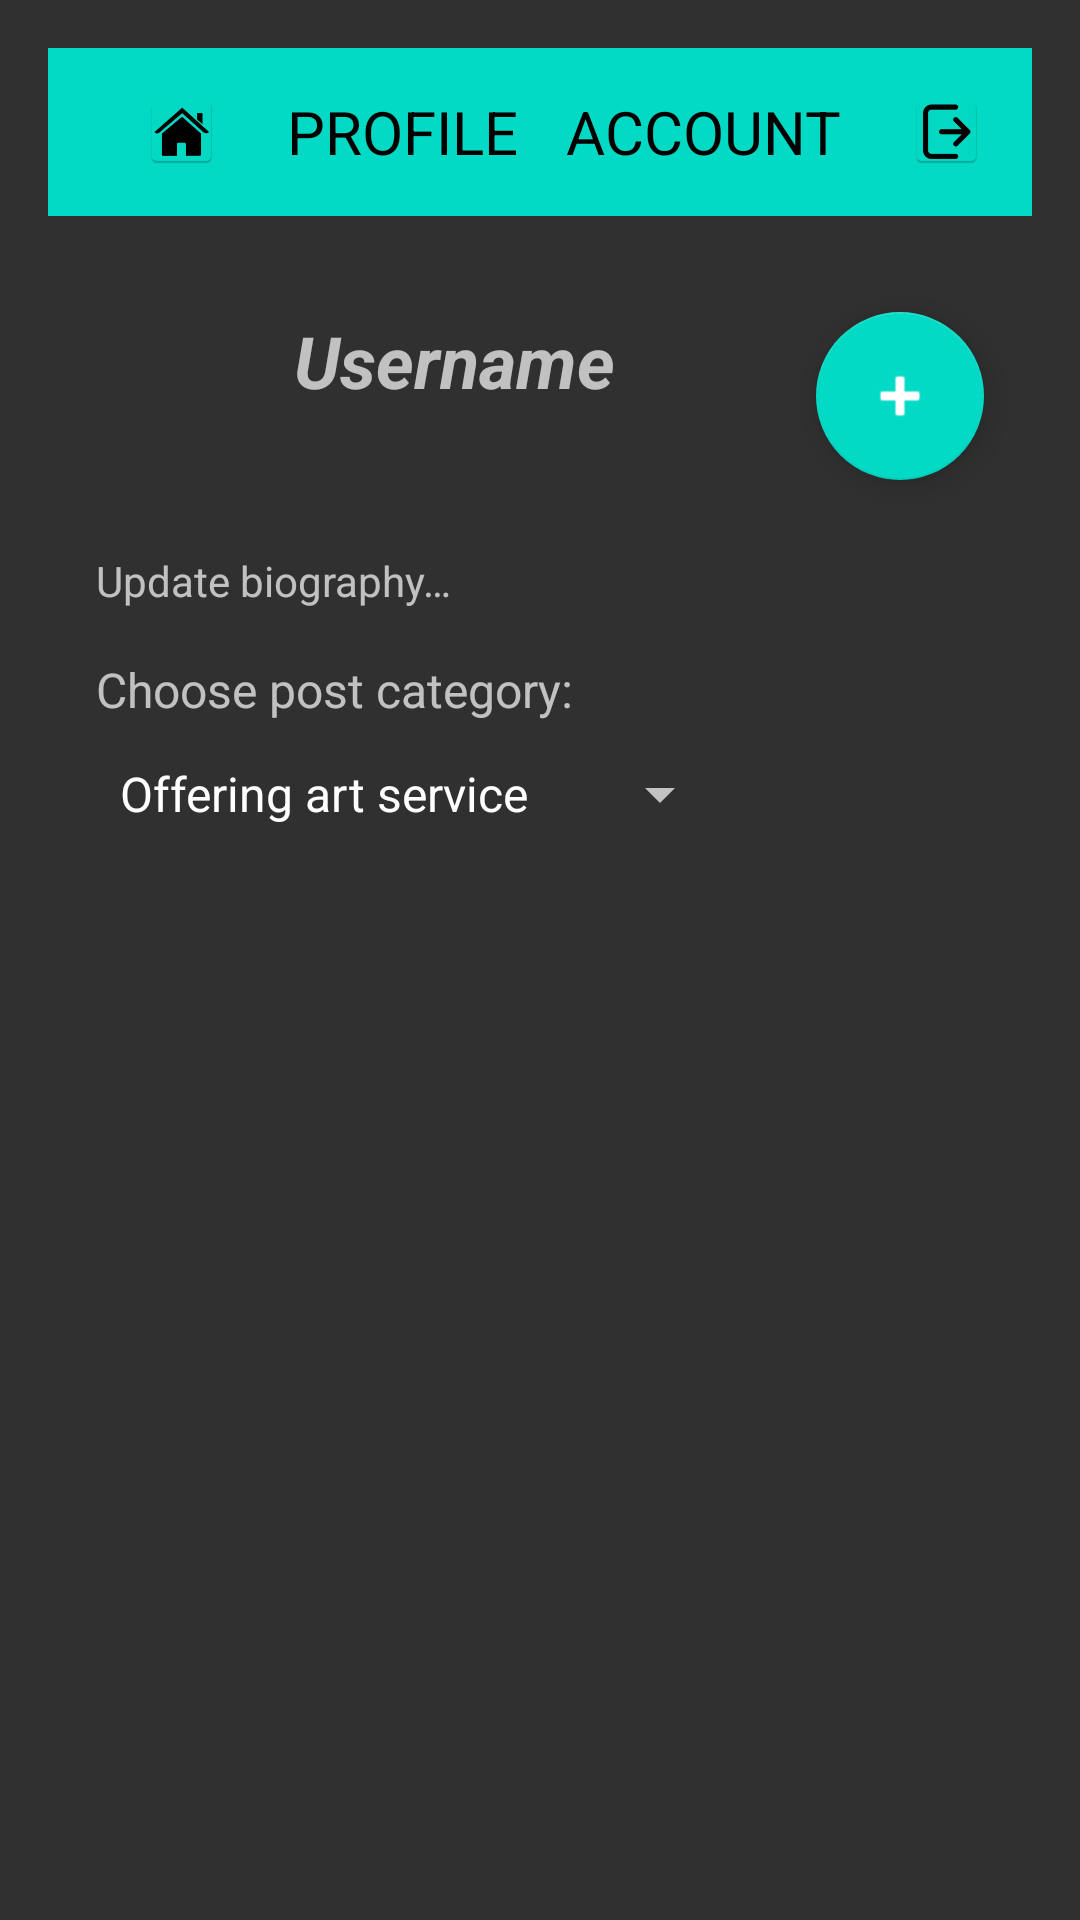

Locate icon controls on the screen. Image size 1080*1920, boxes as (x1, y1, x2, y2).
Add: (816, 312, 984, 480)
Go to MainActivity: (152, 107, 212, 163)
